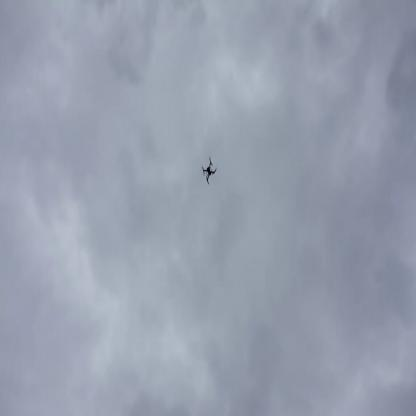drone: (202, 153, 220, 186)
